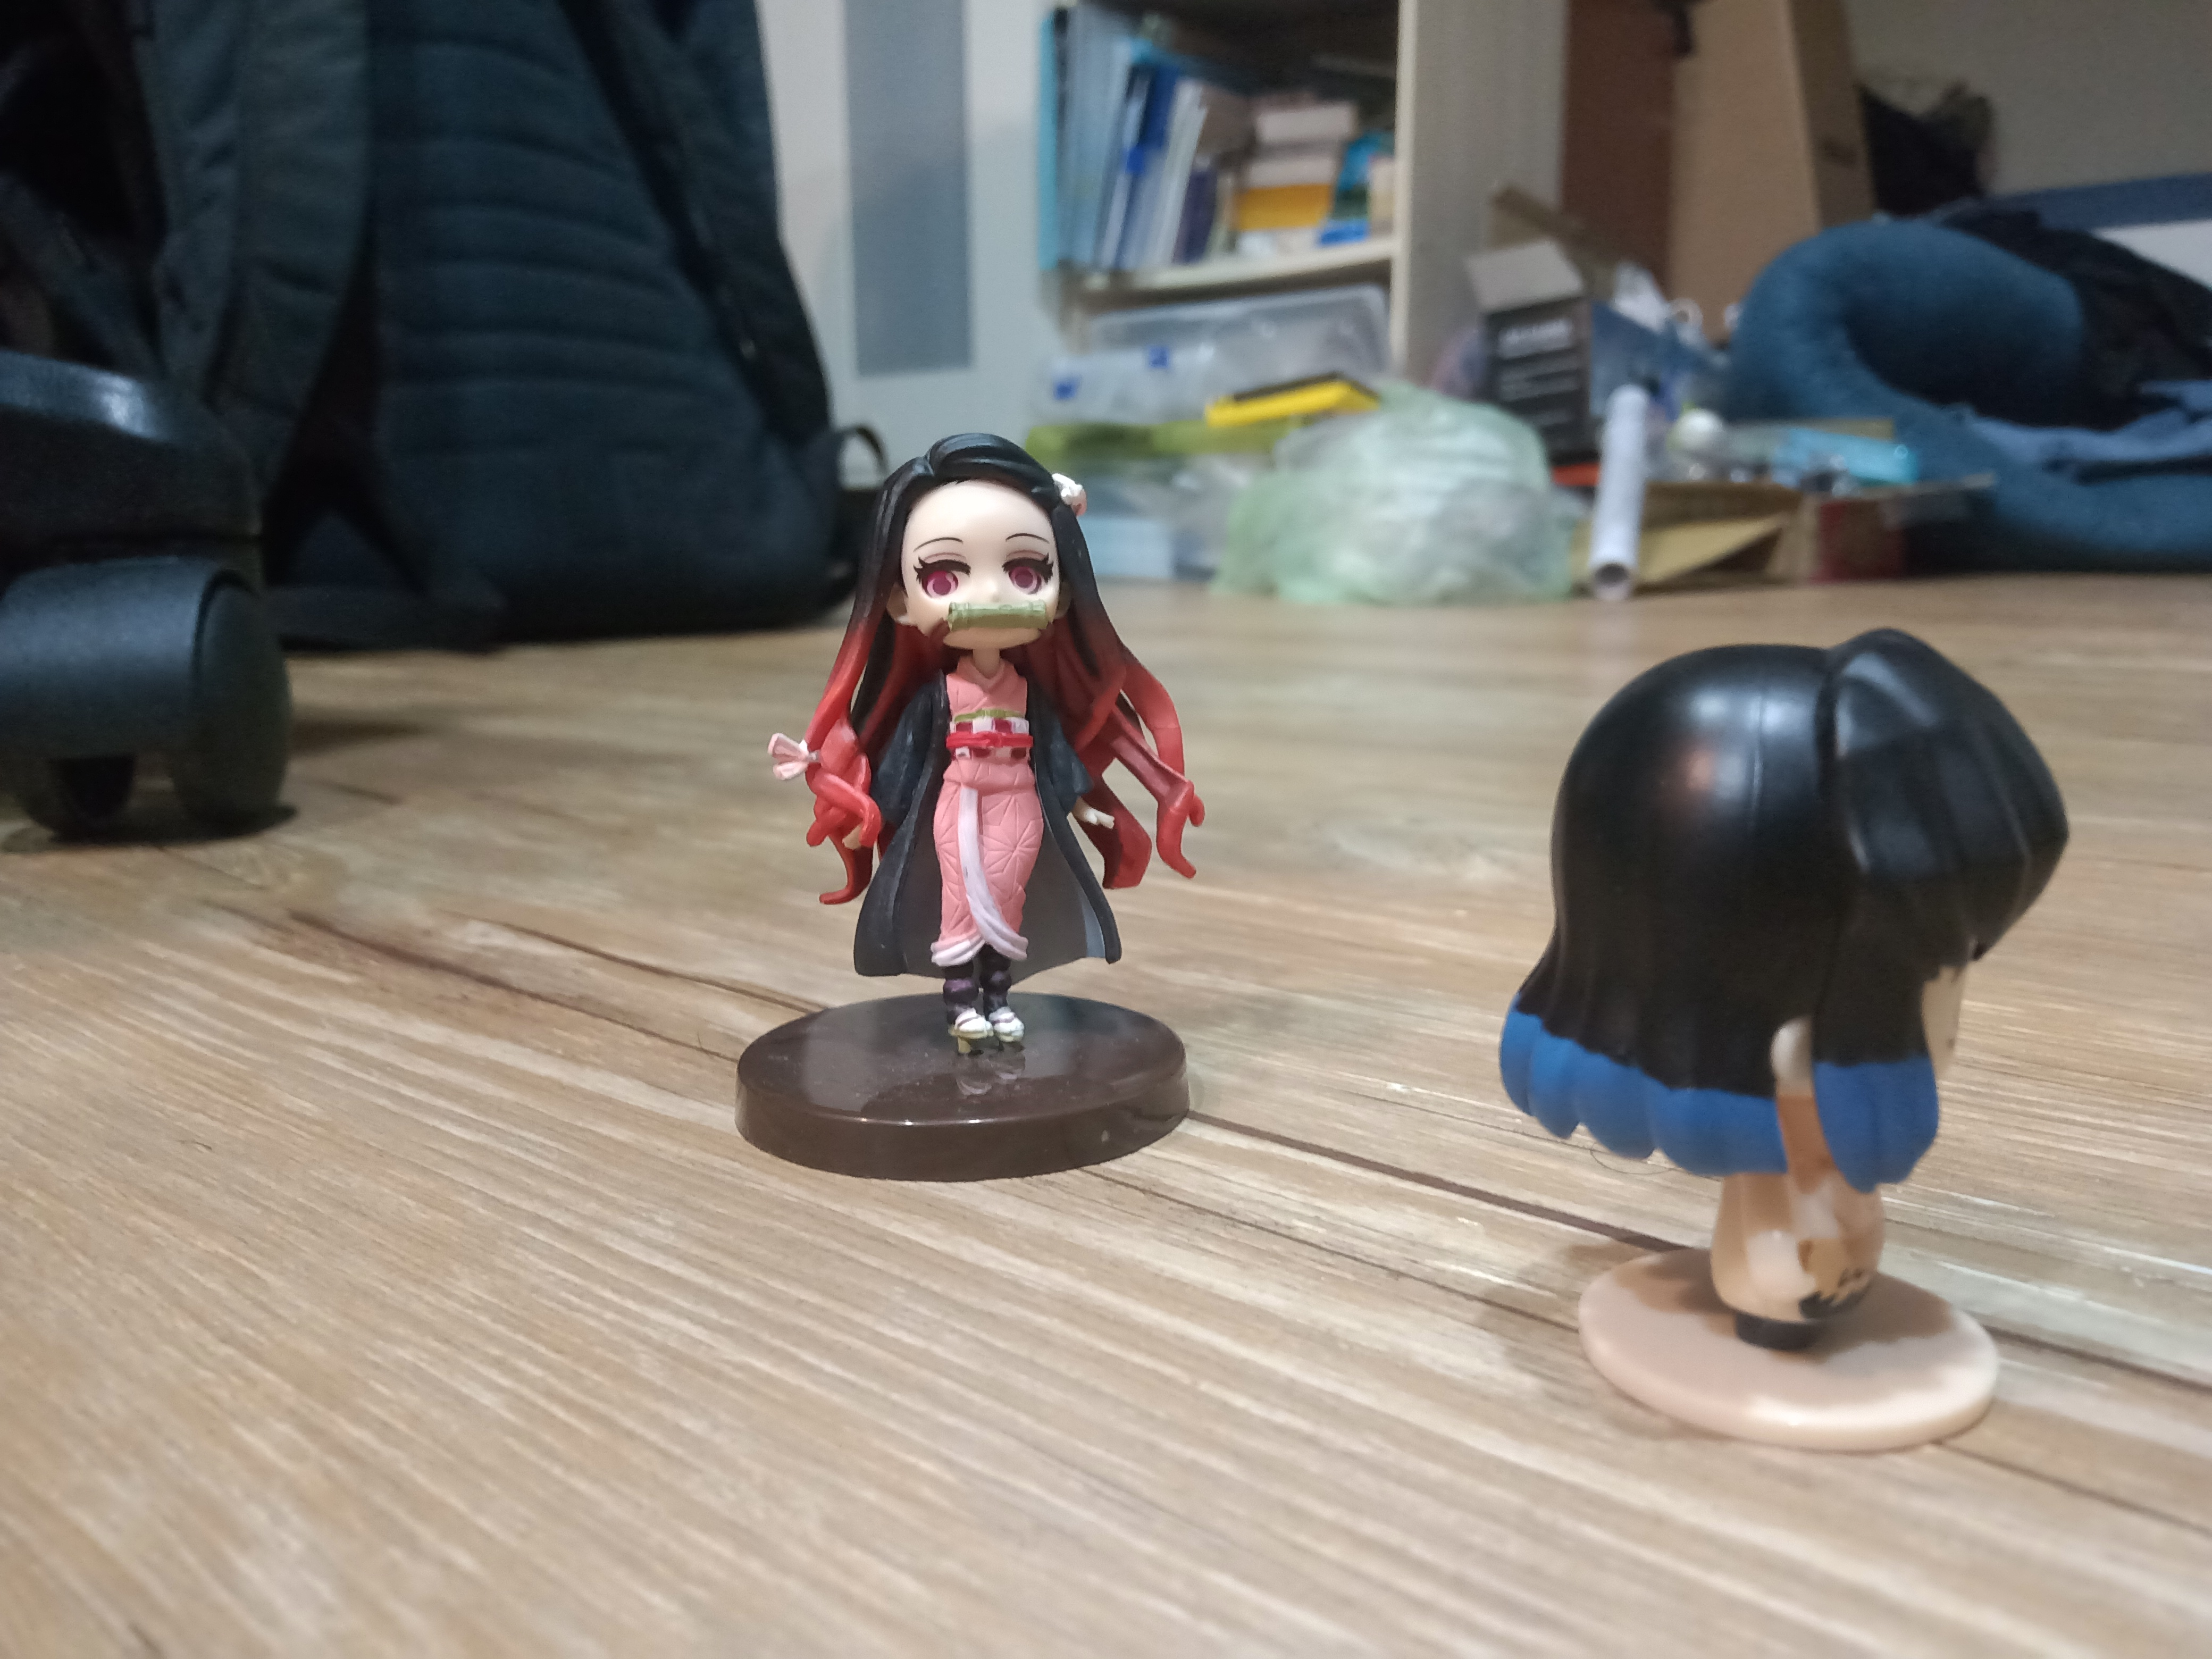Inosuke: (1465, 622, 2087, 1464)
Nezuko: (718, 425, 1230, 1195)
